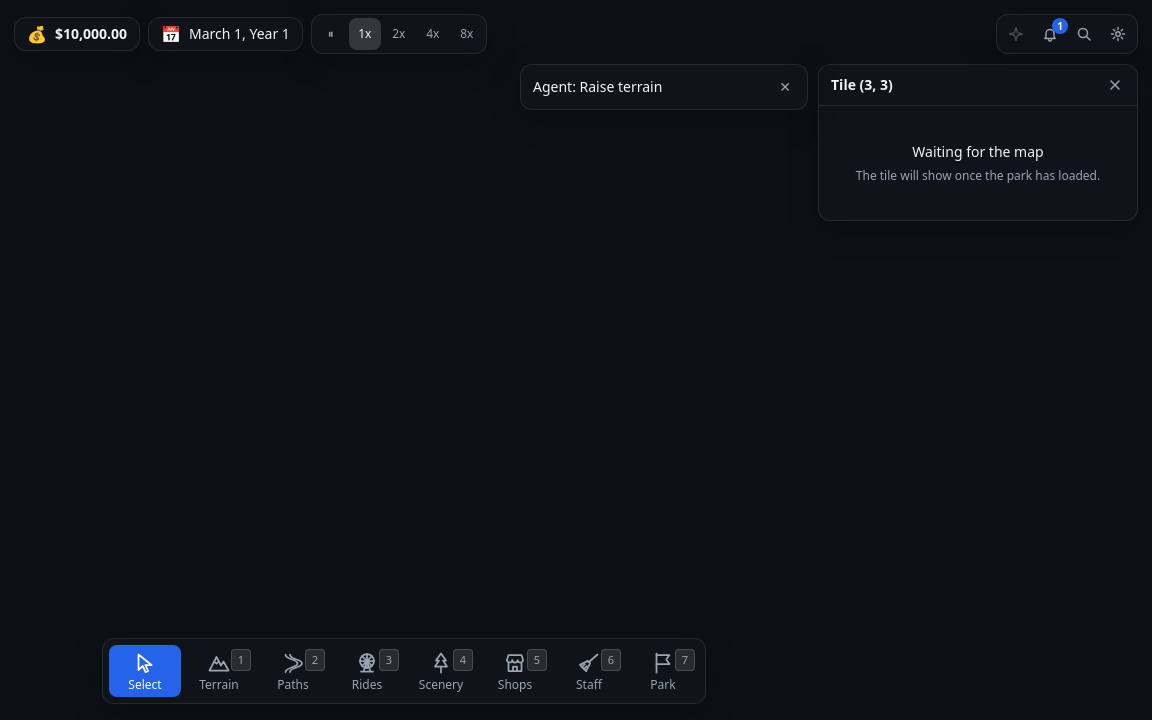
Test: the bell › opens the inspector on the Timeline, with the park selected, and clears the count
The width and height of the screenshot is (1152, 720).
Step 1. Click the button named "Notifications" → (1050,34), box [1034, 18, 1066, 50]
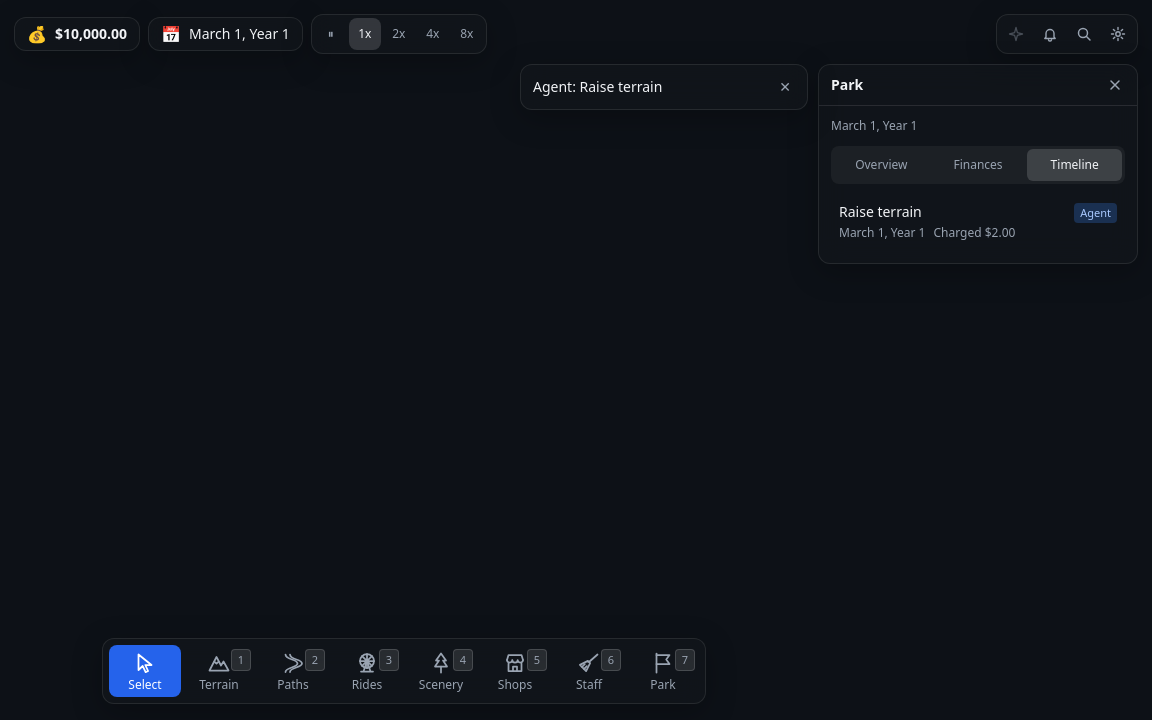
Now the text with test id "unread-count" is gone
Now the text "Raise terrain" is shown, box [839, 202, 922, 221]
Now the text "Agent" is shown, box [1074, 203, 1117, 223]
